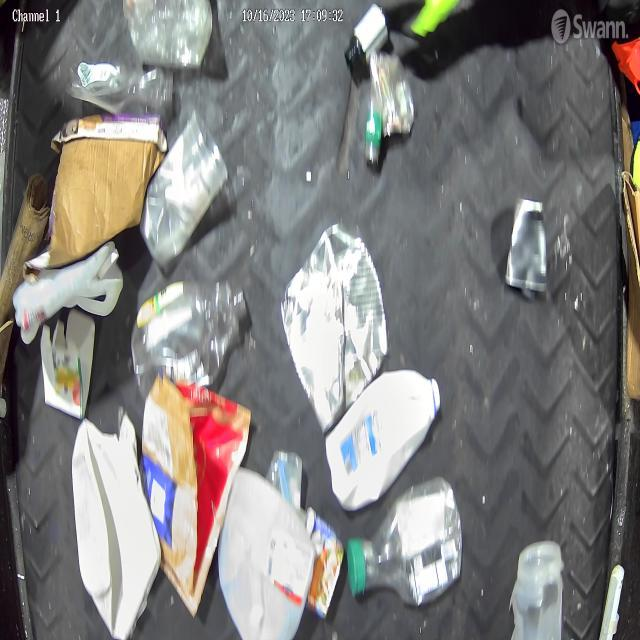can: (506, 188, 546, 292)
milk_jug: (326, 366, 440, 502), (218, 467, 306, 636)
plastic_bottle: (348, 484, 460, 594), (132, 282, 248, 376)
